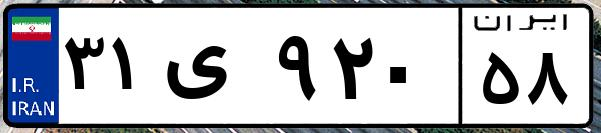0: (385, 28, 445, 110)
1: (110, 28, 158, 98)
2: (330, 28, 385, 110)
3: (57, 26, 110, 100)
5: (475, 38, 525, 113)
8: (525, 38, 570, 115)
9: (270, 28, 330, 110)
ی: (158, 20, 270, 120)
